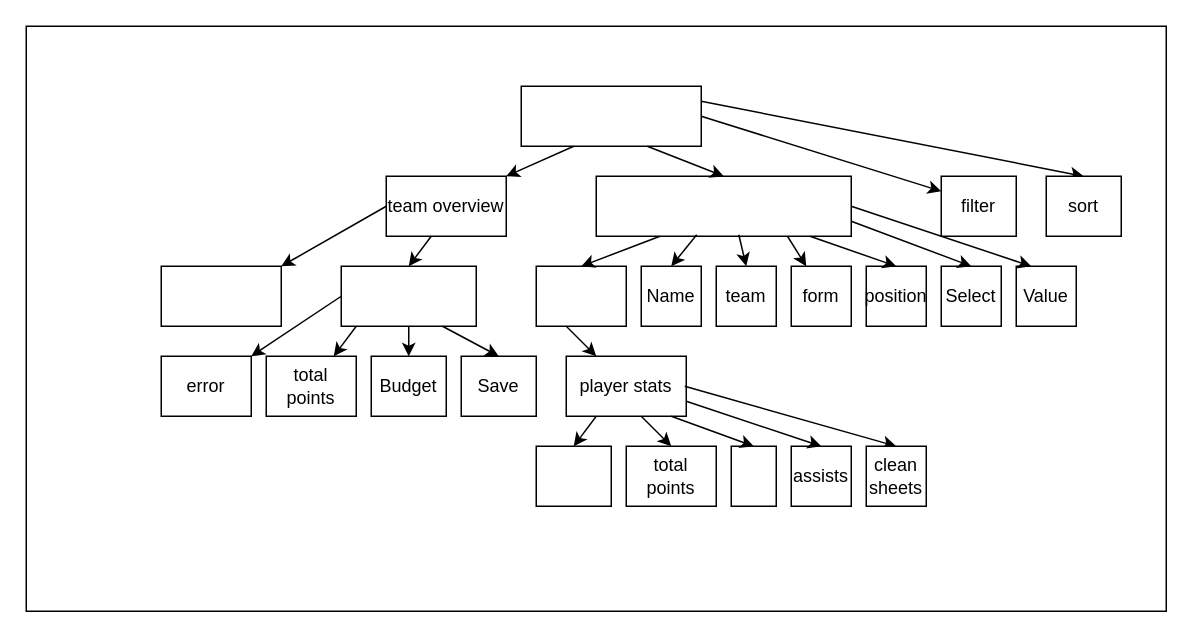
Some shapes in this 1193 by 638 pixel diagram are drawn without their labels. The shapes that lost their labels are listed below. From the top down, each one's centre as x and y in pixels, then its label:
pixel 610 115: Your Team
pixel 723 205: list of players
pixel 220 295: team name
pixel 408 295: Selected players
pixel 580 295: Info button
pixel 573 475: image?
pixel 753 475: goals
